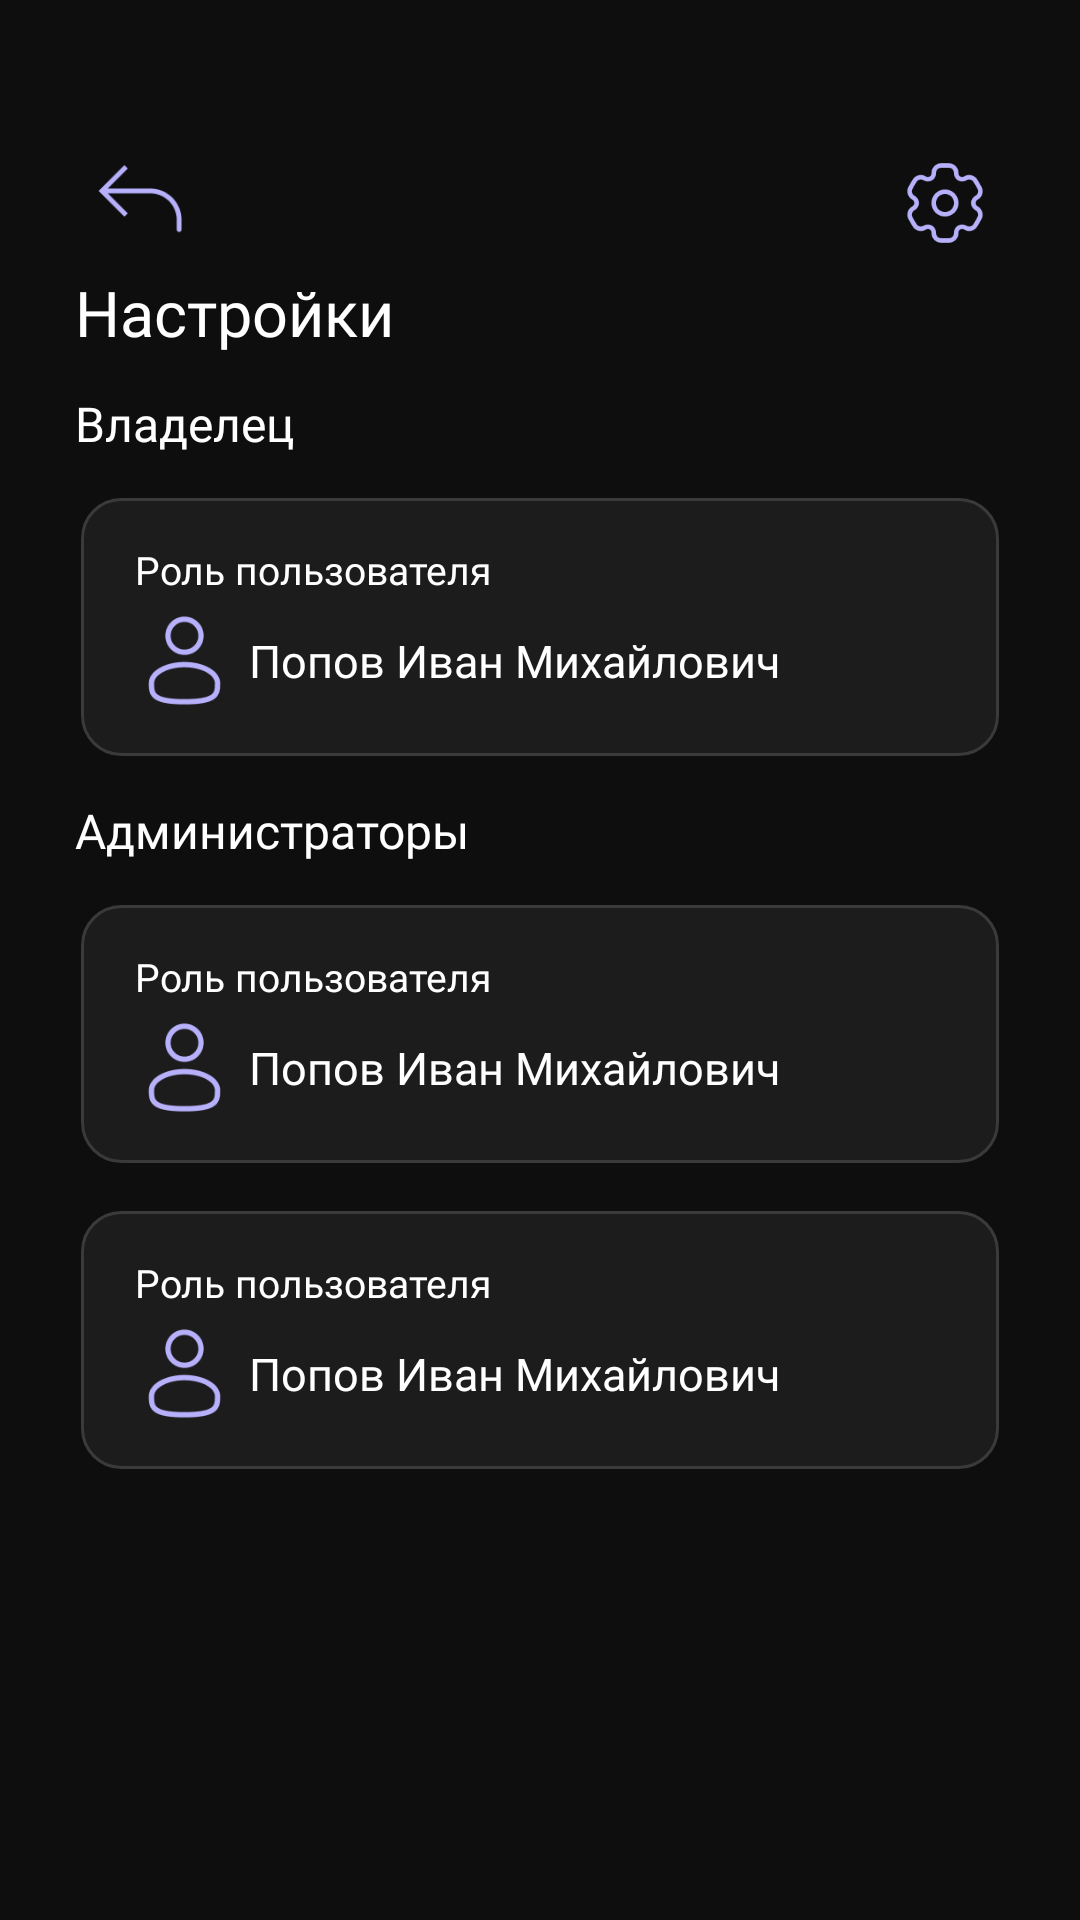

Locate icon controls on the screen. Image size 1080×1920, boxes as bbox(x1, y1, x2, y2).
back: bbox(98, 165, 182, 233)
settings: bbox(907, 163, 983, 243)
user: bbox(148, 616, 221, 705), bbox(148, 1023, 221, 1112), bbox(148, 1329, 221, 1418)
